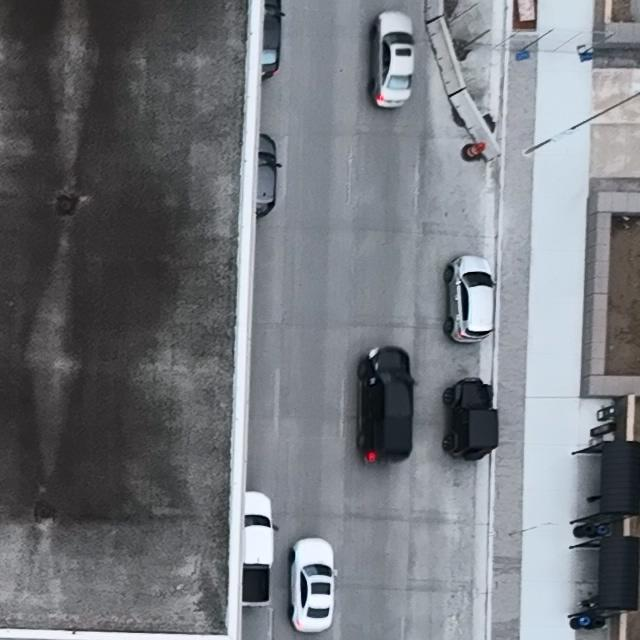car: (356, 345, 417, 466), (445, 255, 498, 344), (288, 538, 338, 632), (443, 377, 498, 462), (370, 11, 416, 109), (242, 489, 279, 607), (257, 134, 282, 217), (261, 0, 285, 77)
